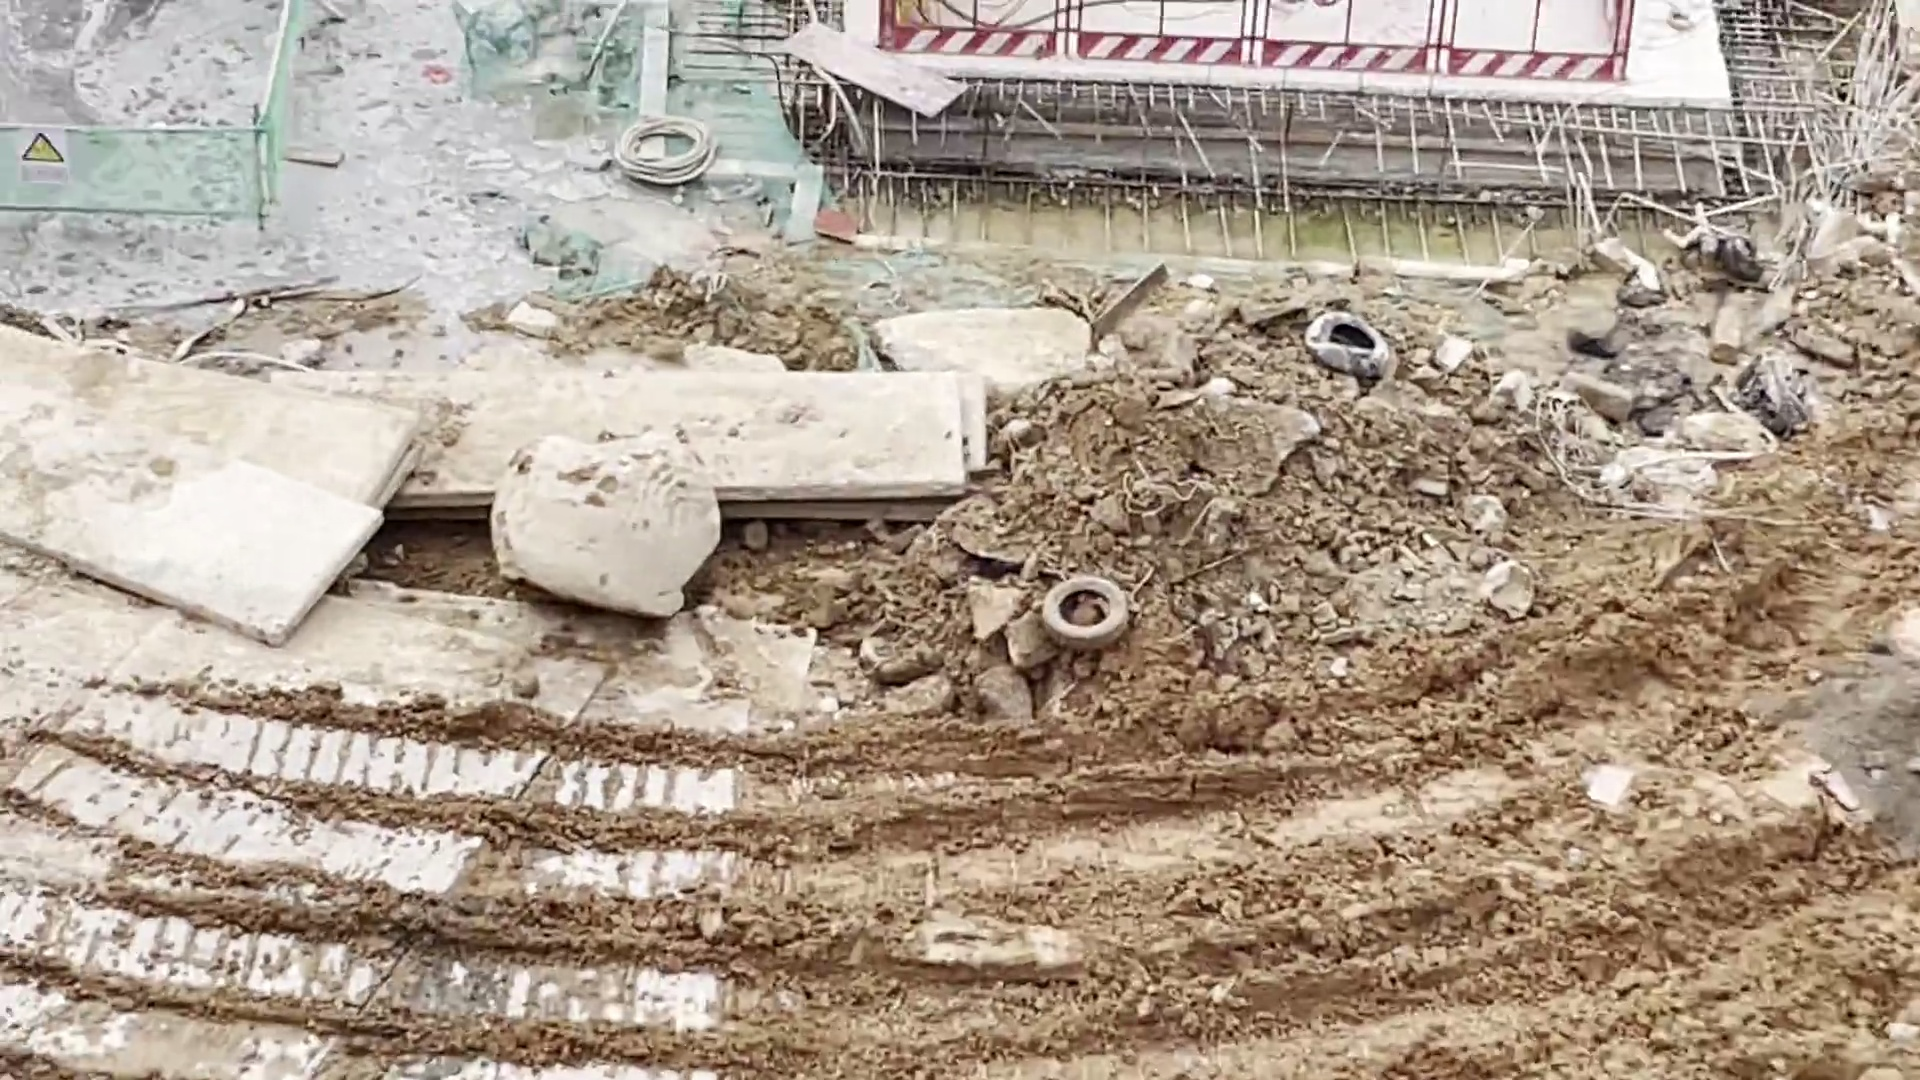fence: (878, 1, 1633, 78)
slogan: (15, 127, 70, 185)
